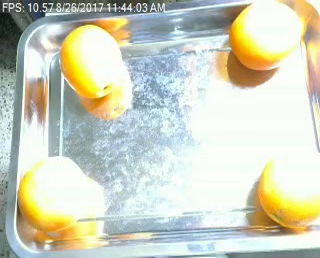Orange: (17, 155, 85, 234), (229, 1, 302, 70), (258, 147, 319, 228), (59, 24, 122, 98)
